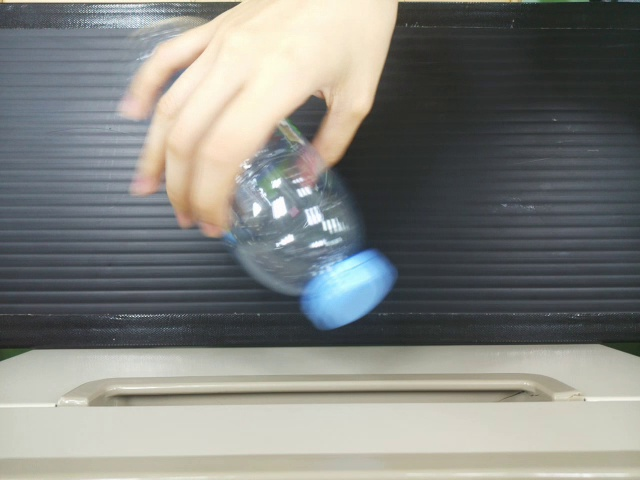bottle: (215, 102, 396, 333)
